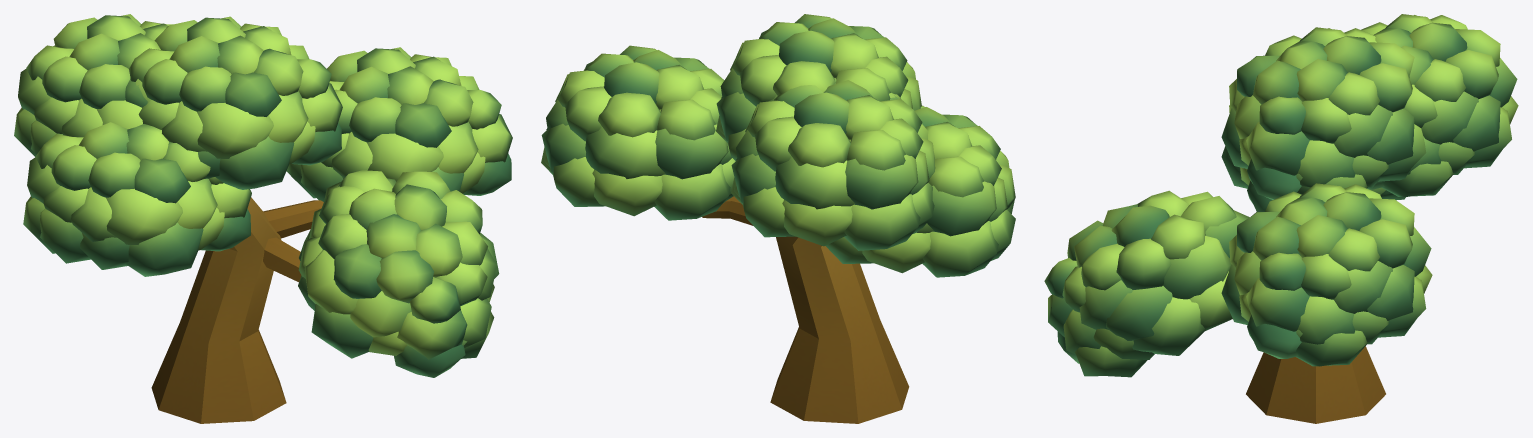
The model's file is Tree_2.fbx.
The picture shows the model from 3 angles, left to right: view 1: azimuth 30°, elevation 25°; view 2: azimuth 150°, elevation 25°; view 3: azimuth 270°, elevation 25°; orthographic projection. The views are drawn at different scales.
Parts seen in each view (by area): view 1: pCylinder7; view 2: pCylinder7; view 3: pCylinder7.
Boxes of the visible parts, x1=… form: pCylinder7: x1=14, y1=14, x2=512, y2=423; pCylinder7: x1=541, y1=14, x2=1015, y2=423; pCylinder7: x1=1044, y1=14, x2=1518, y2=423.
Bounding box in the file's own units: 725 × 554 × 655.
